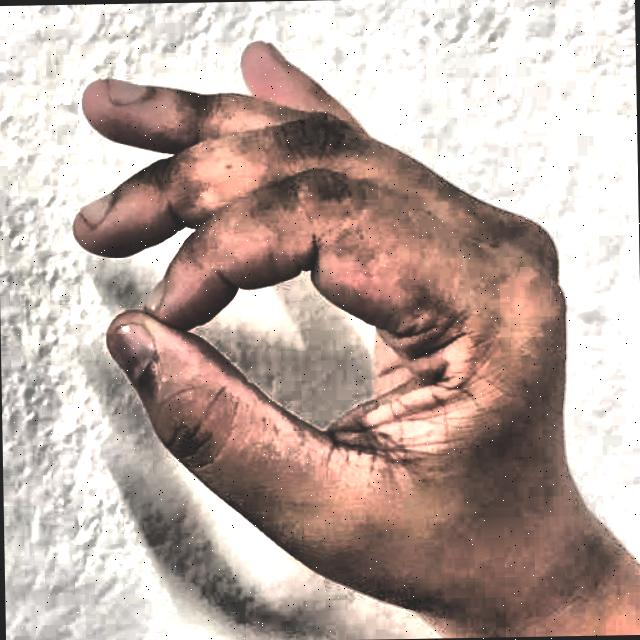Yo: (41, 19, 602, 635)
